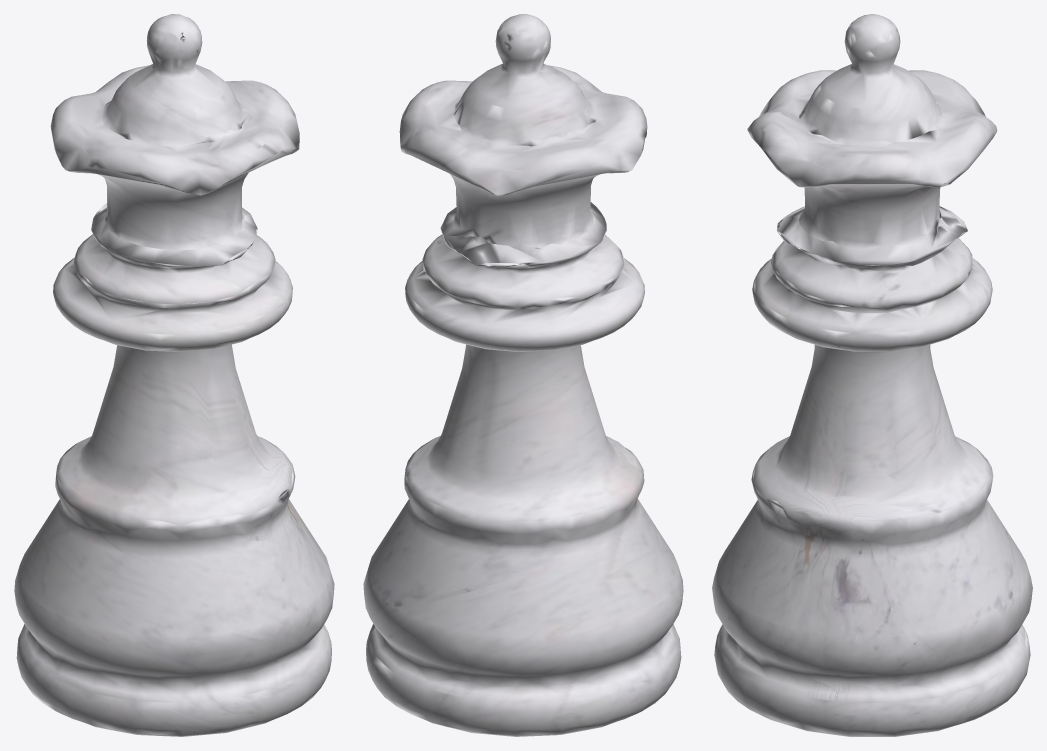
Rendered from white_queen.glb.
The picture shows the model from 3 angles, left to right: view 1: azimuth 30°, elevation 25°; view 2: azimuth 150°, elevation 25°; view 3: azimuth 270°, elevation 25°; orthographic projection.
Visible parts, largest first — view 1: Circle.030; view 2: Circle.030; view 3: Circle.030.
Part boxes in pixels (bbox=[...]): Circle.030: bbox=[14, 14, 334, 736]; Circle.030: bbox=[363, 14, 683, 736]; Circle.030: bbox=[712, 14, 1032, 736].
Size of the model in its own units: 1.41 by 3.22 by 1.41.
Materials: 1 (1 with a texture image).
